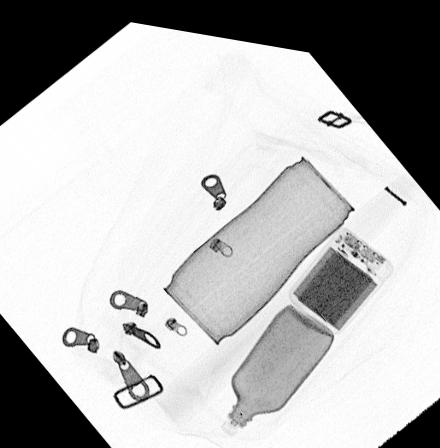Powerbank: (288, 214, 395, 322)
